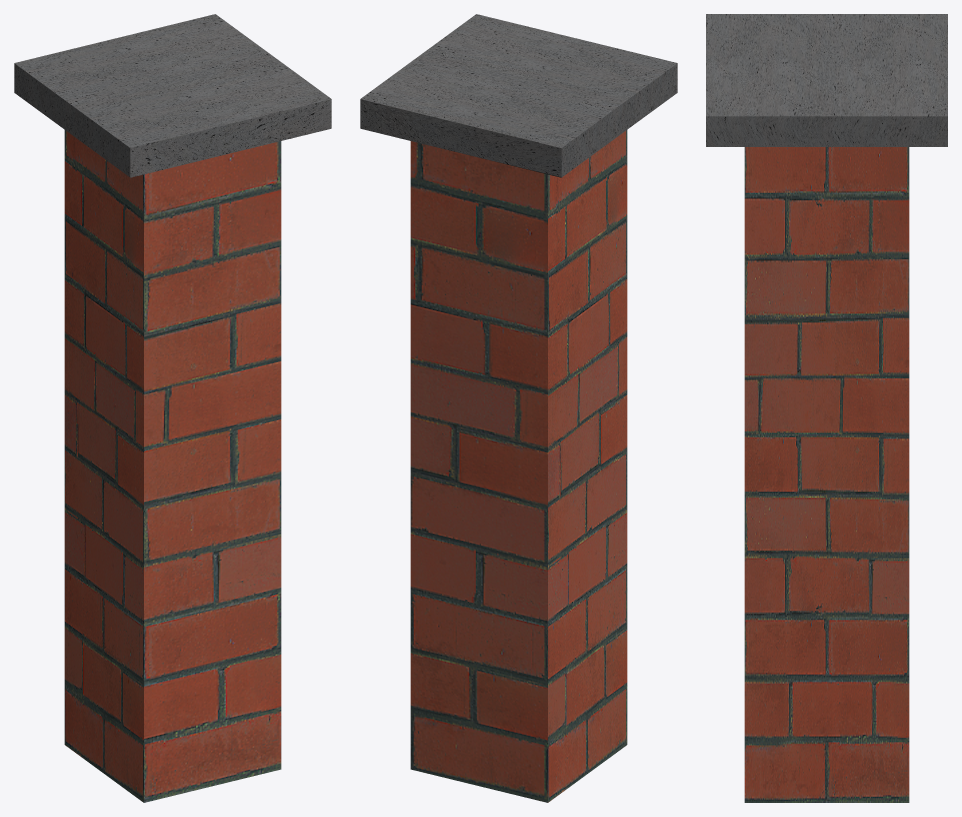
The model's file is WallRedBricks_Corner.dae.
3 renders of one model, left to right at view 1: azimuth 30°, elevation 25°; view 2: azimuth 150°, elevation 25°; view 3: azimuth 270°, elevation 25°, orthographic. The views are drawn at different scales.
Parts seen in each view (by area): view 1: WallRedBricks_Corner; view 2: WallRedBricks_Corner; view 3: WallRedBricks_Corner.
Part boxes in pixels (left/top/right/bottom): WallRedBricks_Corner: left=14, top=14, right=331, bottom=802; WallRedBricks_Corner: left=360, top=14, right=677, bottom=802; WallRedBricks_Corner: left=706, top=14, right=947, bottom=802.
Bounding box in the file's own units: 8.8 × 8.8 × 28.24.
